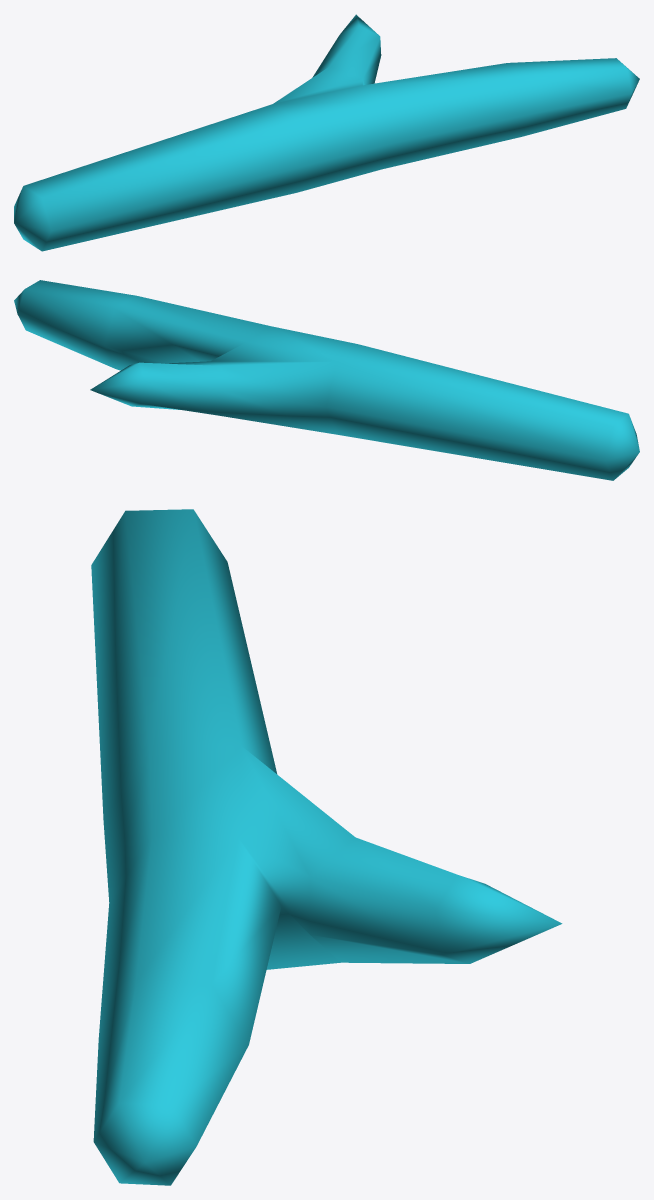
The model's file is Holo_Branch.glb.
3 renders of one model, top to bottom at view 1: azimuth 30°, elevation 25°; view 2: azimuth 150°, elevation 25°; view 3: azimuth 270°, elevation 25°, orthographic. The views are drawn at different scales.
Parts seen in each view (by area): view 1: Holo_Branch_0; view 2: Holo_Branch_0; view 3: Holo_Branch_0.
Part boxes in pixels (left/top/right/bottom): Holo_Branch_0: left=14, top=14, right=639, bottom=251; Holo_Branch_0: left=14, top=280, right=639, bottom=480; Holo_Branch_0: left=91, top=509, right=562, bottom=1185.
Bounding box in the file's own units: 2 × 0.2346 × 0.6559.
